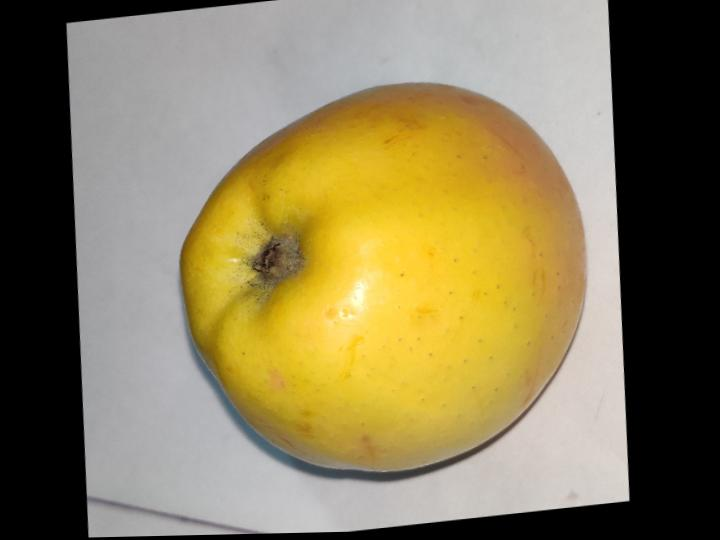apple: (181, 83, 585, 472)
